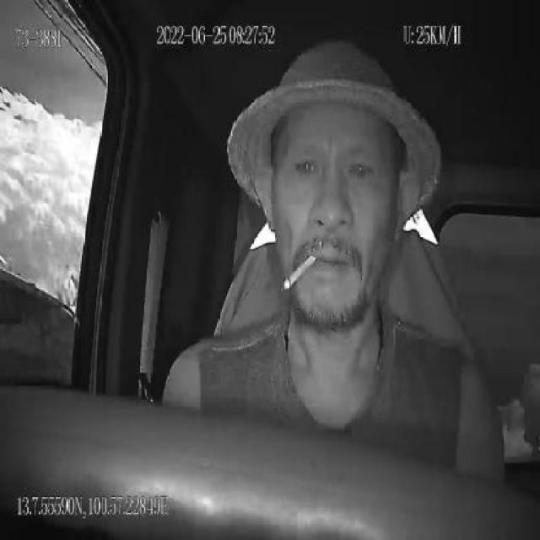smoking: (283, 251, 318, 291)
